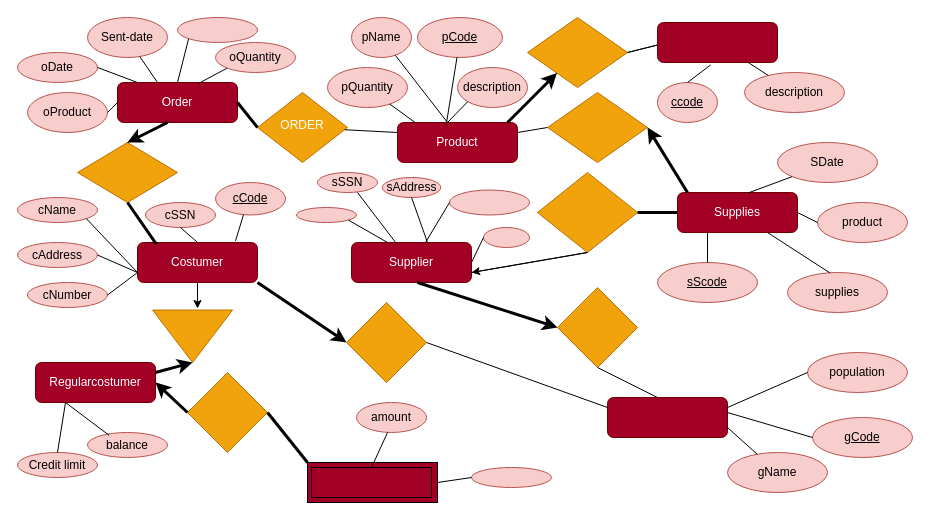
The diagram is 930 pixels wide and 520 high, and some of its shapes have lost their labels. Each missing label, with the centre of its shape:
BASED: [597,327]
BECOME: [597,127]
BELONG: [577,52]
Category: [717,42]
Geoarea: [667,417]
GIVE: [127,172]
IS-FOR: [227,412]
lives-in: [386,342]
oCode: [217,29]
p Da t e: [511,477]
payment: [371,482]
PROVIDE: [587,212]
sCode: [506,237]
sName: [326,214]
sPhoneN: [489,202]
